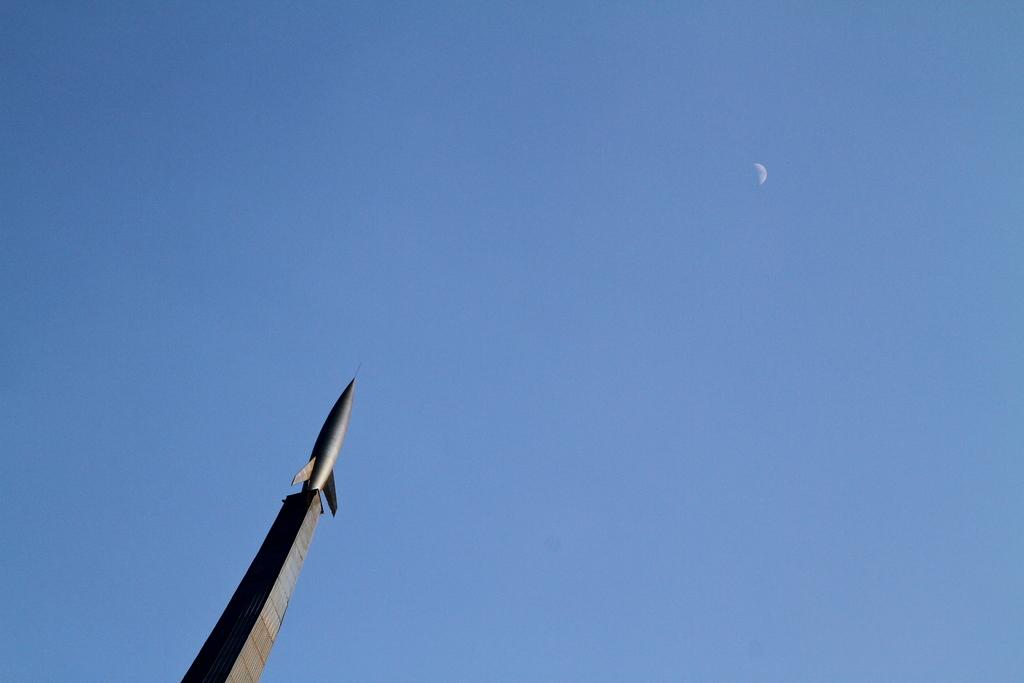Missile: (294, 361, 358, 521)
